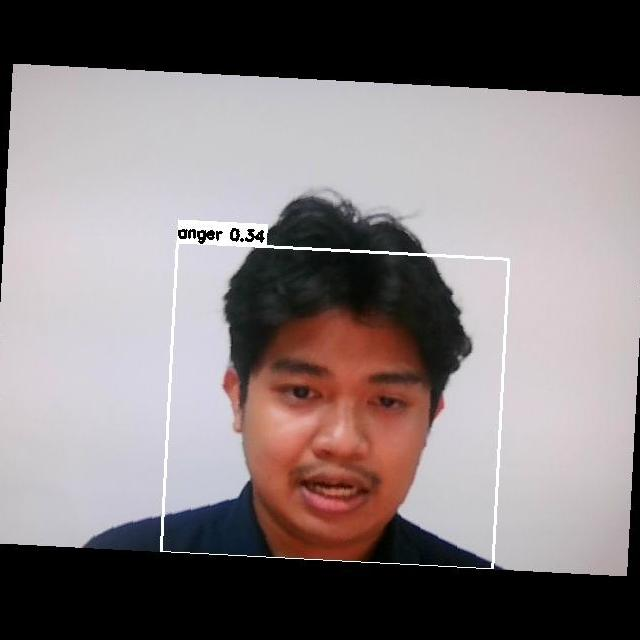Fear: (237, 331, 434, 530)
